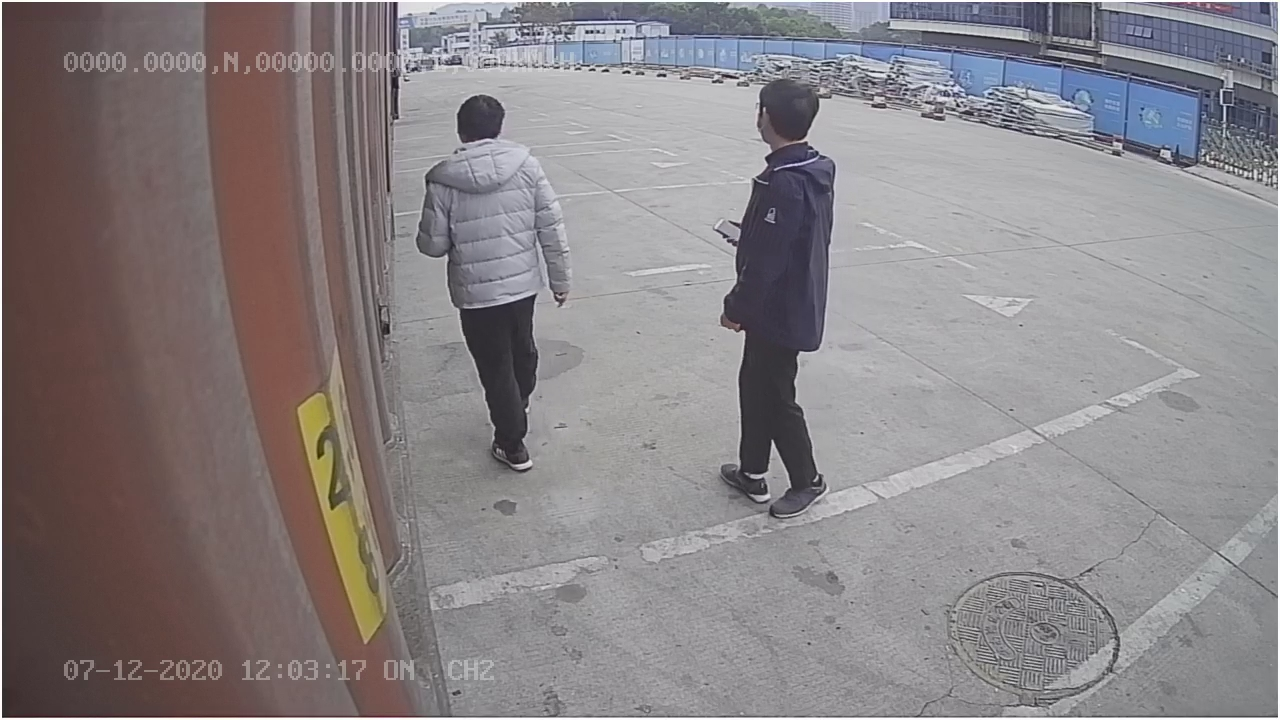person: (416, 96, 581, 473), (713, 73, 841, 523)
